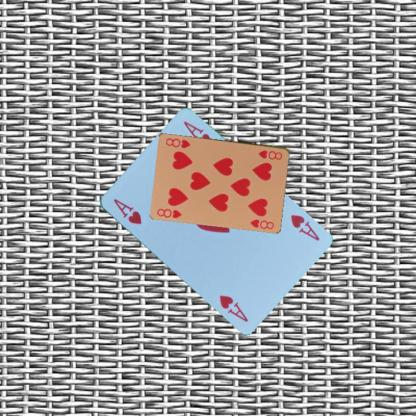8h: (154, 206, 184, 220), (256, 147, 284, 161)
Ah: (287, 211, 321, 242), (110, 196, 143, 226)
